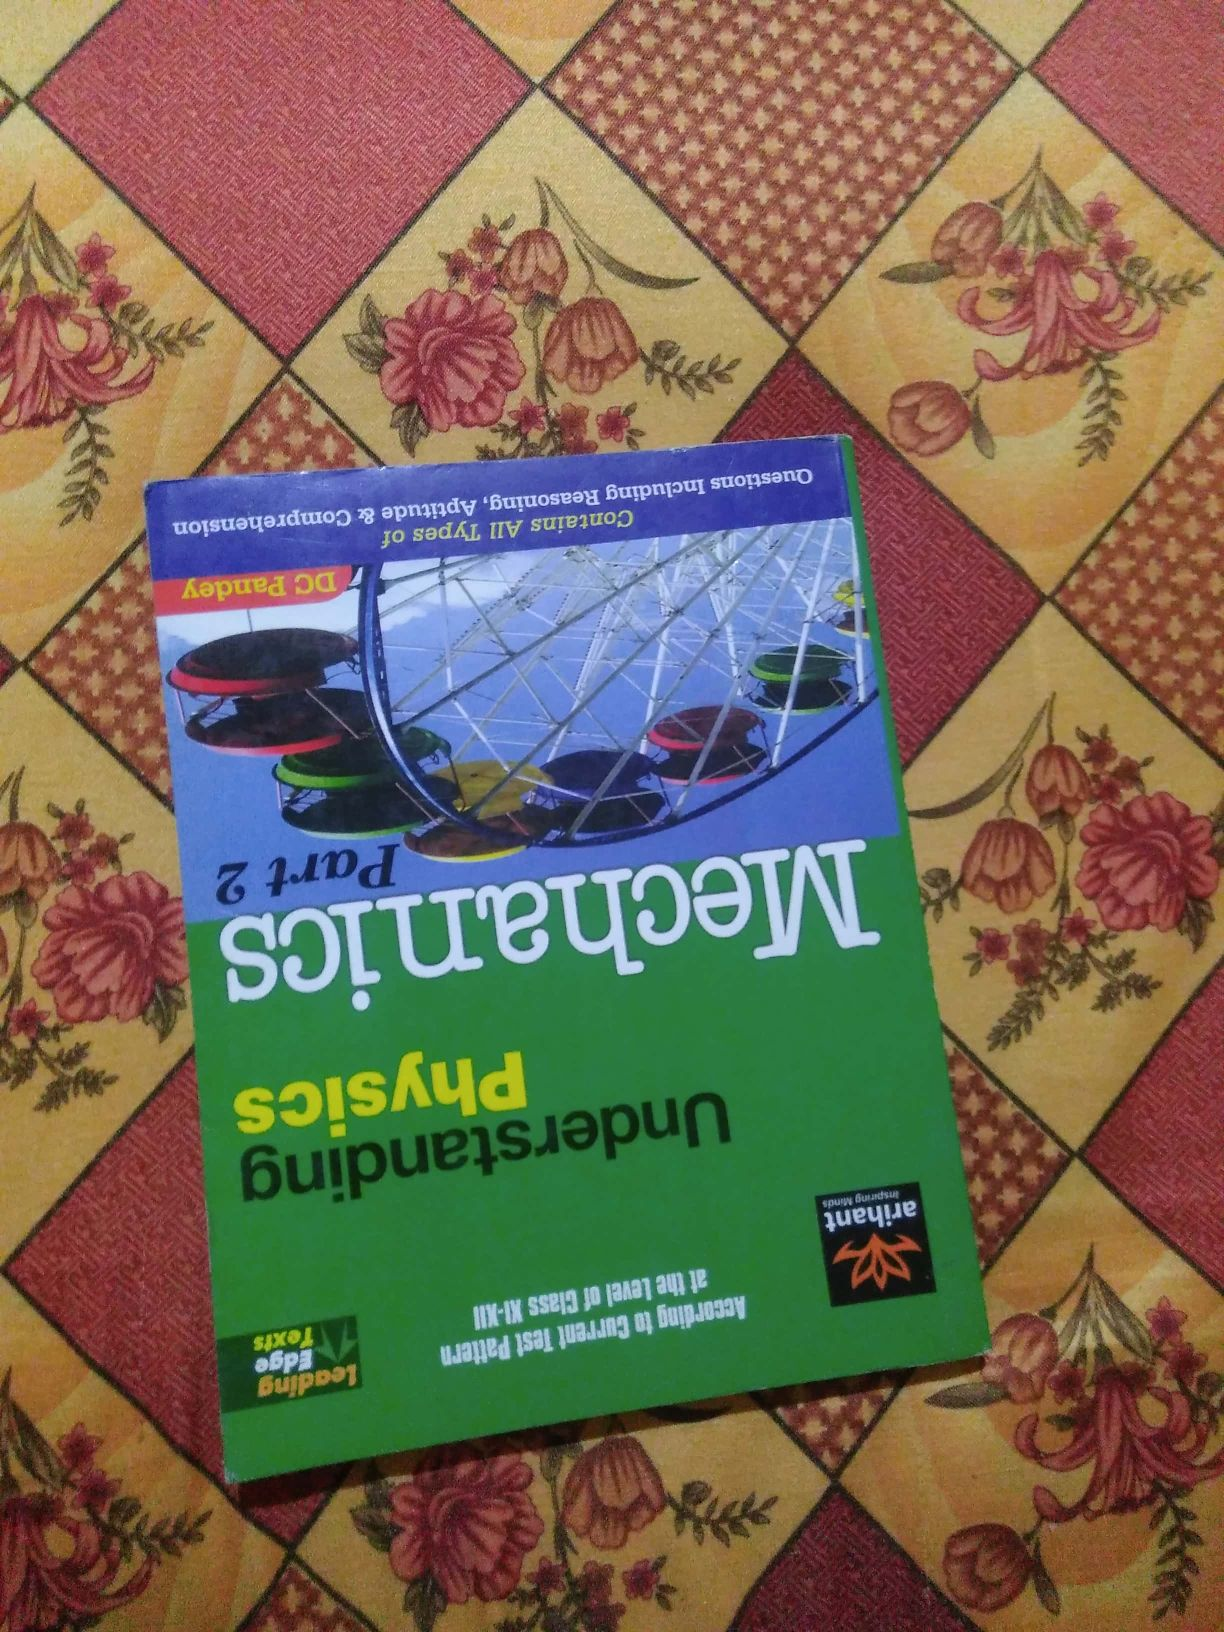mechanics: (66, 404, 1074, 1459)
